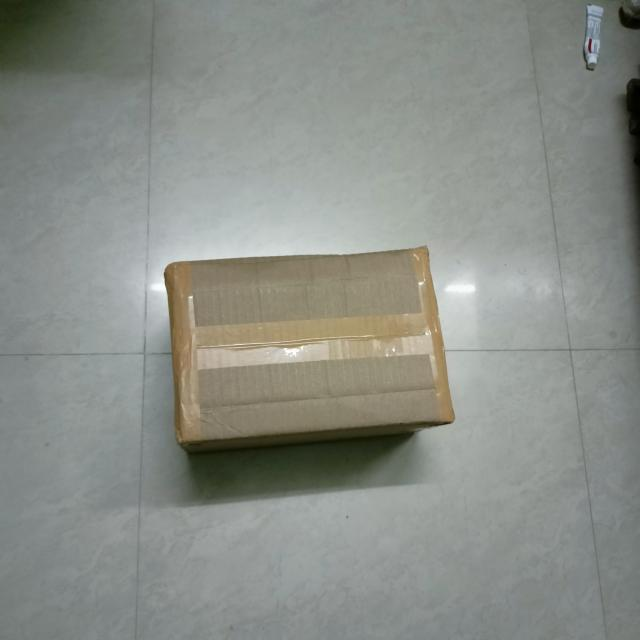box: (162, 246, 458, 445)
